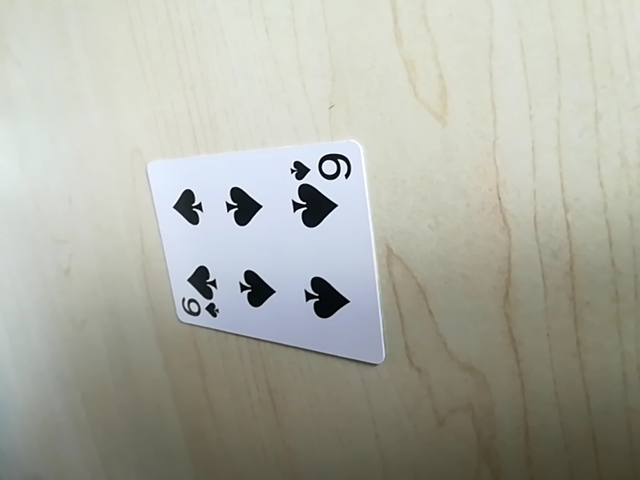ht 6: (290, 149, 353, 185), (172, 281, 218, 322)
